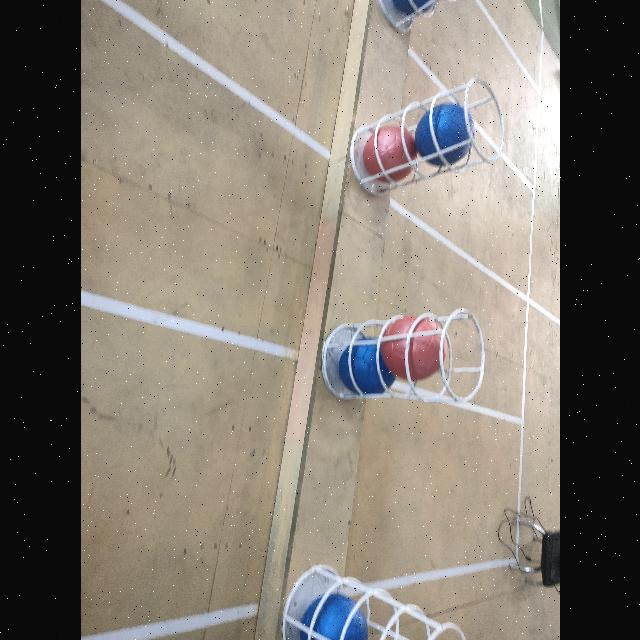B: (418, 102, 474, 168), (298, 594, 367, 640), (341, 338, 382, 397)
R: (384, 315, 448, 379), (360, 122, 416, 184)
